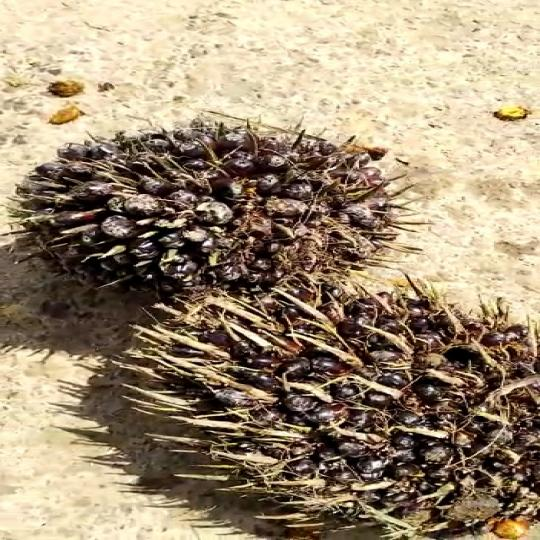mentah: (89, 283, 540, 540), (5, 127, 439, 290)
